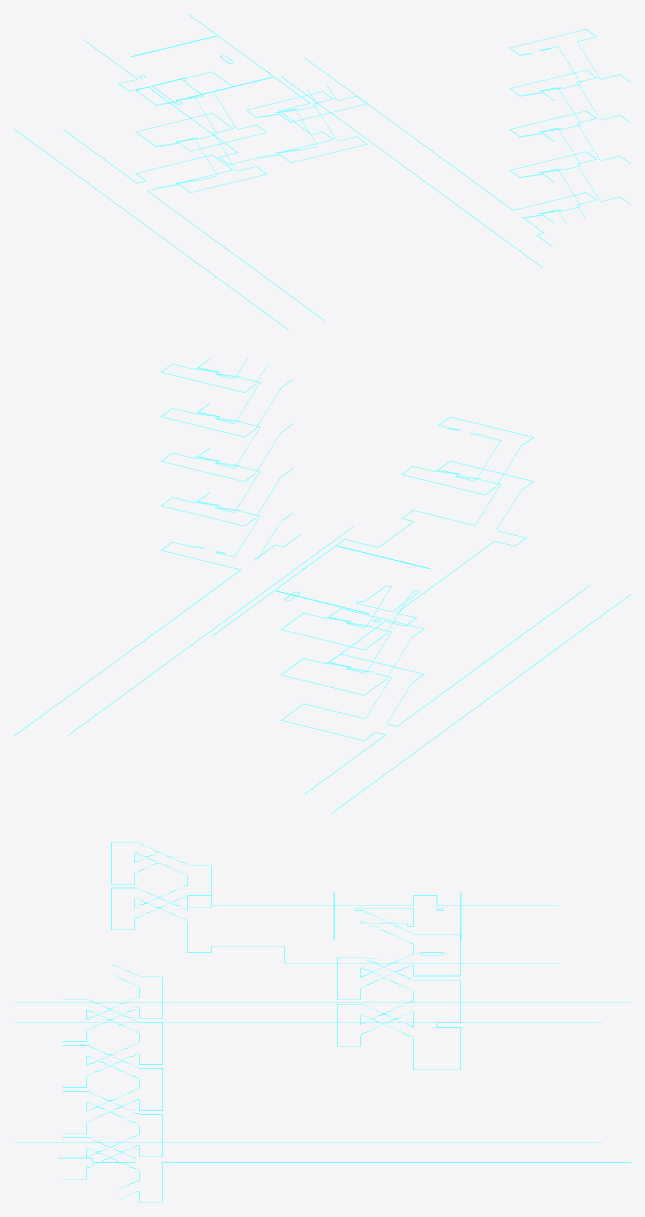
File: v02-03-06-cyan.glb
3 views of the same model, one above another, from view 1: azimuth 30°, elevation 25°; view 2: azimuth 150°, elevation 25°; view 3: azimuth 270°, elevation 25° (orthographic). The views are drawn at different scales.
Visible parts, largest first — view 1: v02-03-06-cyan; view 2: v02-03-06-cyan; view 3: v02-03-06-cyan.
Part boxes in pixels (box(x1,y1,x2,y2)): v02-03-06-cyan: box(14, 14, 630, 329); v02-03-06-cyan: box(14, 358, 630, 813); v02-03-06-cyan: box(14, 842, 630, 1202).
Size of the model in its own units: 58.79 by 27.81 by 76.5.
